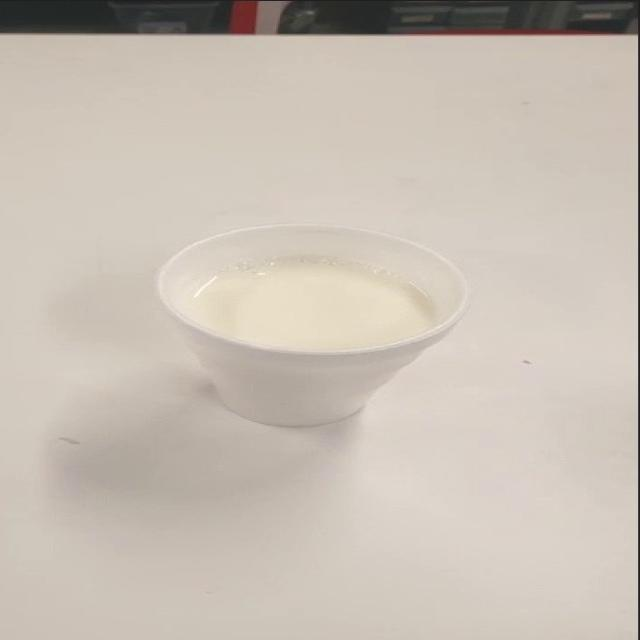milk: (111, 199, 486, 446)
